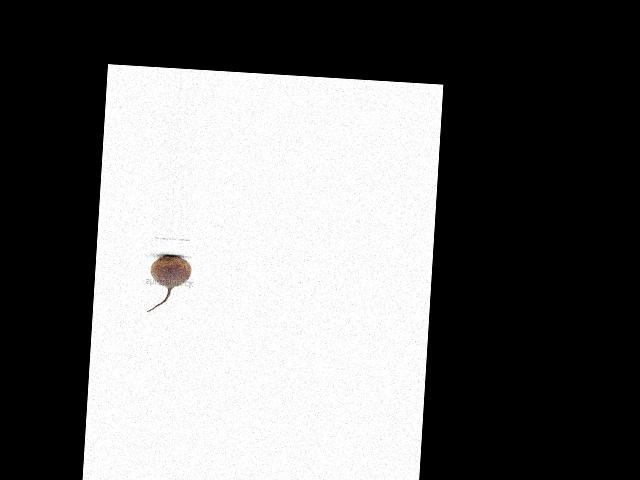beet: (147, 253, 193, 314)
